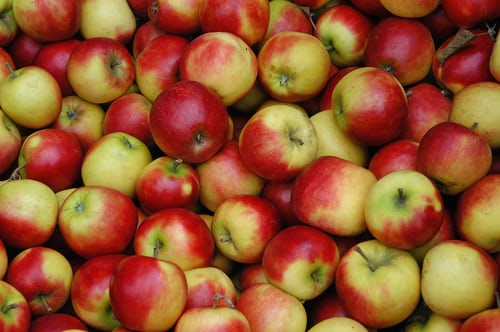apple: (339, 238, 420, 325), (235, 103, 326, 178), (148, 80, 230, 162), (364, 168, 444, 249), (331, 65, 411, 143), (422, 236, 497, 318), (57, 183, 141, 256), (264, 224, 342, 298), (134, 204, 216, 270), (180, 31, 256, 102), (257, 30, 330, 103), (5, 245, 74, 313), (423, 122, 493, 189), (67, 37, 137, 103), (364, 21, 436, 85), (80, 131, 152, 193), (1, 65, 63, 130), (311, 4, 371, 71), (18, 129, 82, 191), (194, 1, 272, 45), (451, 77, 500, 135), (79, 1, 134, 42)
